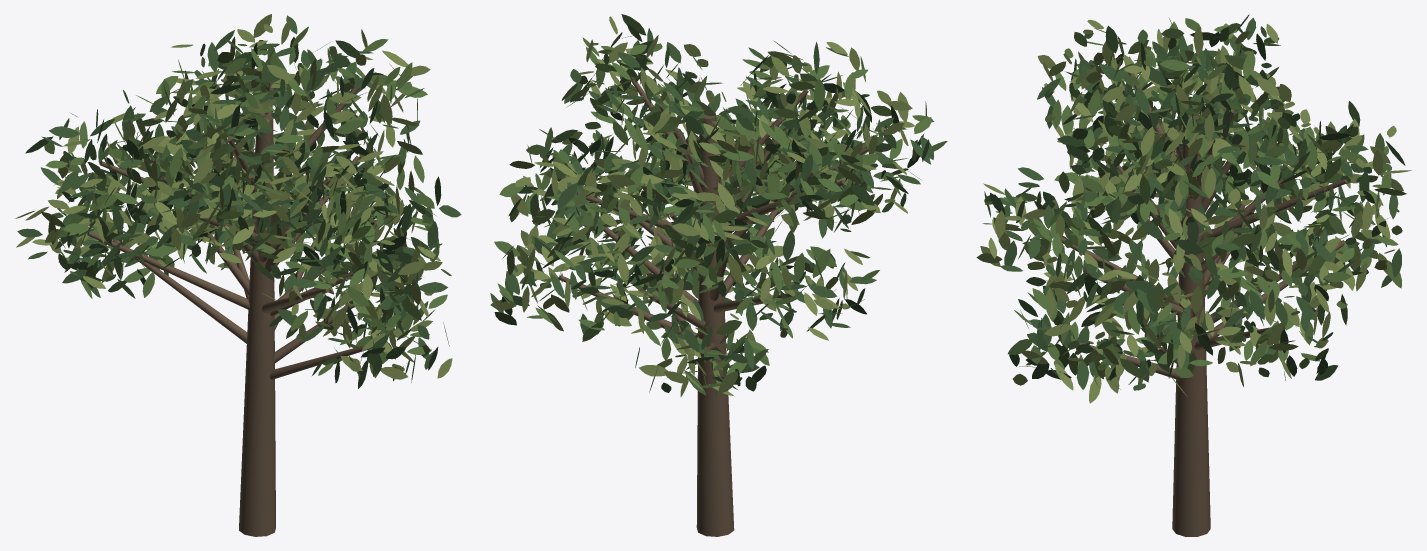
Rendered from oak.glb.
The picture shows the model from 3 angles, left to right: view 1: azimuth 30°, elevation 25°; view 2: azimuth 150°, elevation 25°; view 3: azimuth 270°, elevation 25°; orthographic projection.
Bounding box in the file's own units: 5.04 × 6.02 × 4.99.
